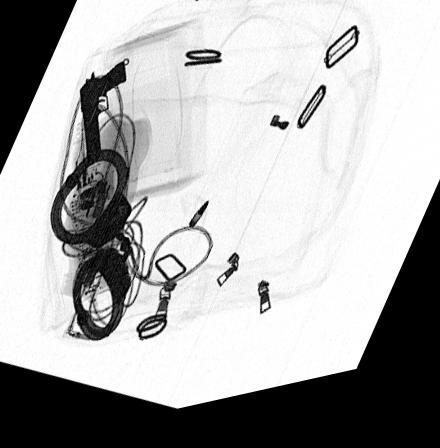Bullet: (188, 210, 209, 236)
Gun: (77, 63, 126, 162)
HandCuffs: (49, 151, 135, 345)
